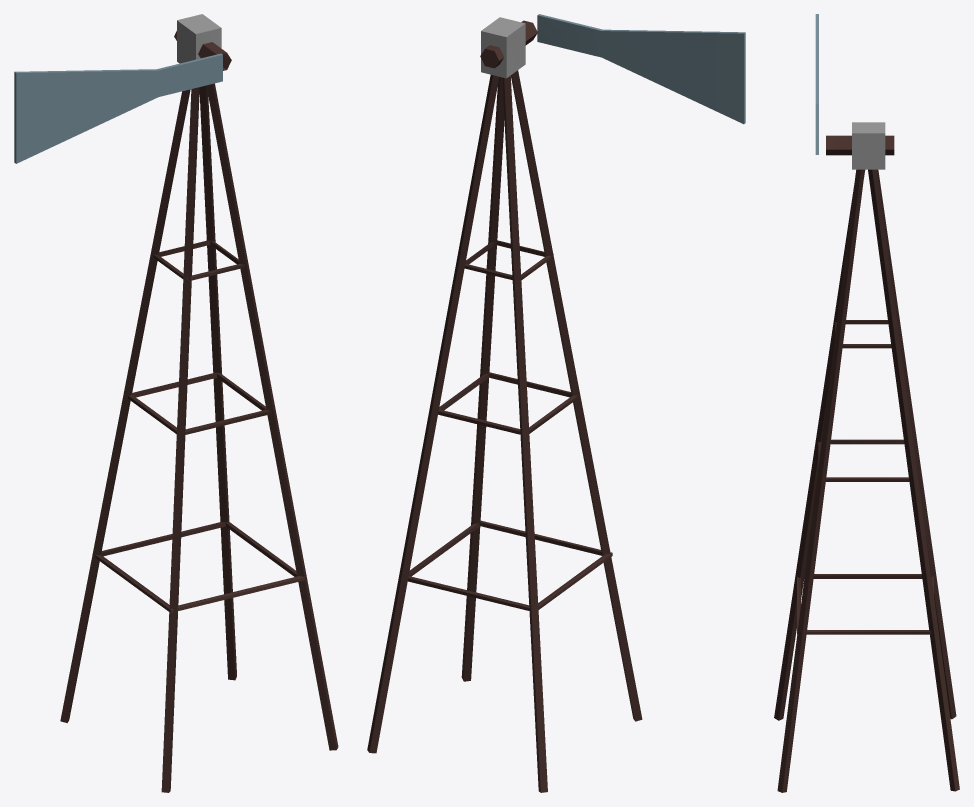
The model's file is tower_005.glb.
3 renders of one model, left to right at view 1: azimuth 30°, elevation 25°; view 2: azimuth 150°, elevation 25°; view 3: azimuth 270°, elevation 25°, orthographic. The views are drawn at different scales.
Visible parts, largest first — view 1: tower_005; view 2: tower_005; view 3: tower_005.
Part boxes in pixels (box(x1,y1,x2,y2)): tower_005: box(14, 14, 338, 792); tower_005: box(367, 14, 745, 792); tower_005: box(774, 14, 959, 792).
Bounding box in the file's own units: 5.12 × 11.86 × 3.08.
Materials: 1 (1 with a texture image).
